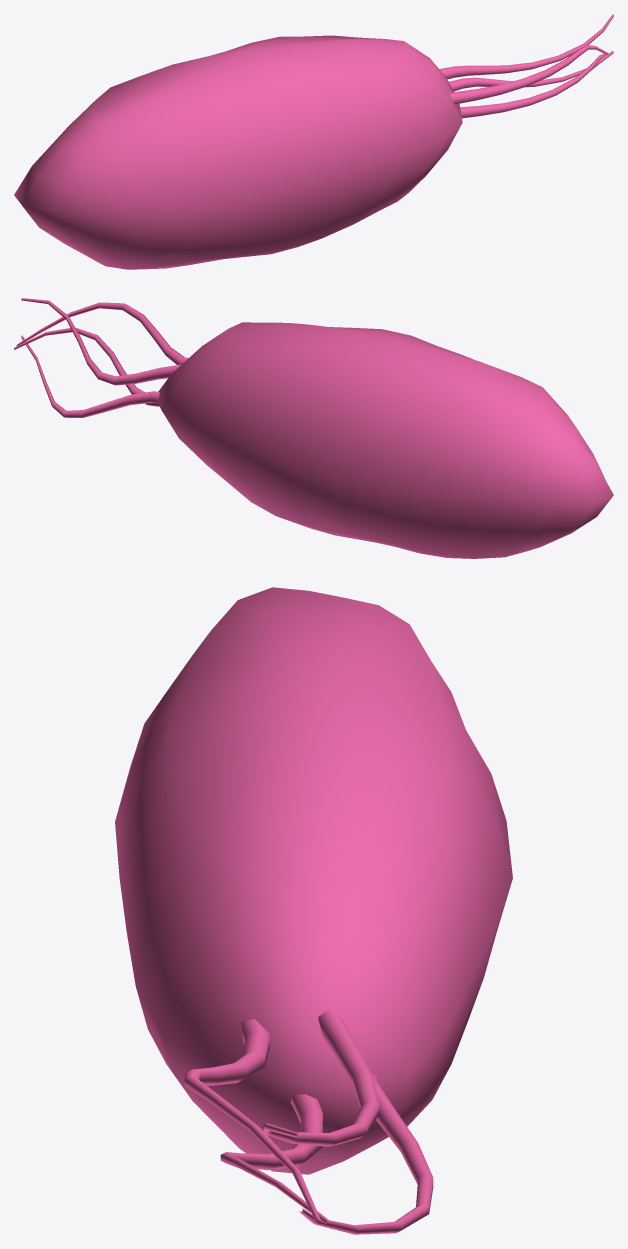
File: bacterium_game.gltf
3 renders of one model, top to bottom at view 1: azimuth 30°, elevation 25°; view 2: azimuth 150°, elevation 25°; view 3: azimuth 270°, elevation 25°, orthographic. The views are drawn at different scales.
Visible parts, largest first — view 1: bacteria; view 2: bacteria; view 3: bacteria.
Part boxes in pixels (x1,y1,x2,y2): bacteria: (14,14,613,269); bacteria: (14,298,613,558); bacteria: (115,587,512,1234).
Bounding box in the file's own units: 0.2897 × 0.0941 × 0.0848.
